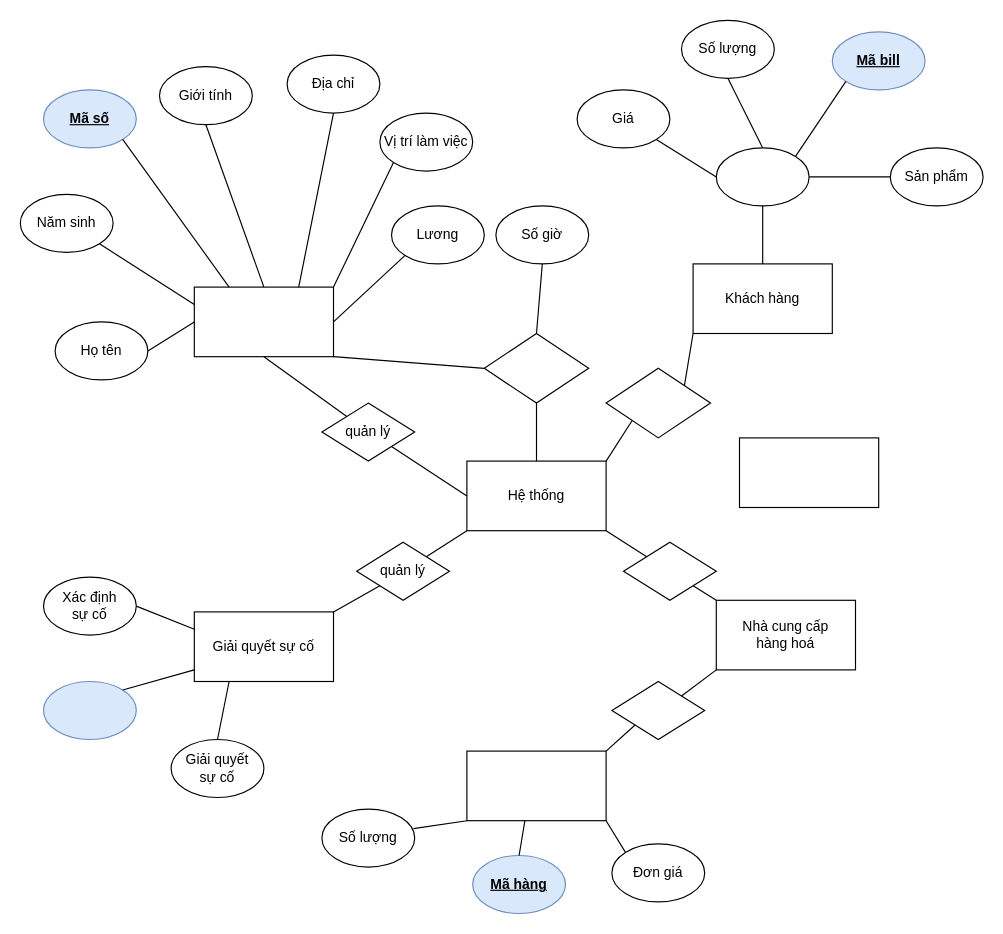
Image size: 1003x934. Some labels were removed from this diagram. The shapes that lost their labels are listed below. From the top down, each one's box as (x1, y1, x2, y2) in pixels, then its label:
(715, 147, 809, 206): Hoá đơn
(193, 286, 334, 357): Nhân viên
(483, 332, 589, 403): làm việc cho
(605, 367, 710, 438): bán
(738, 437, 879, 507): Thu chi ngân sách
(622, 541, 716, 600): đặt mua
(42, 680, 136, 740): Lập biên bản
(611, 680, 705, 740): cung cấp
(466, 750, 606, 821): Hàng hoá
